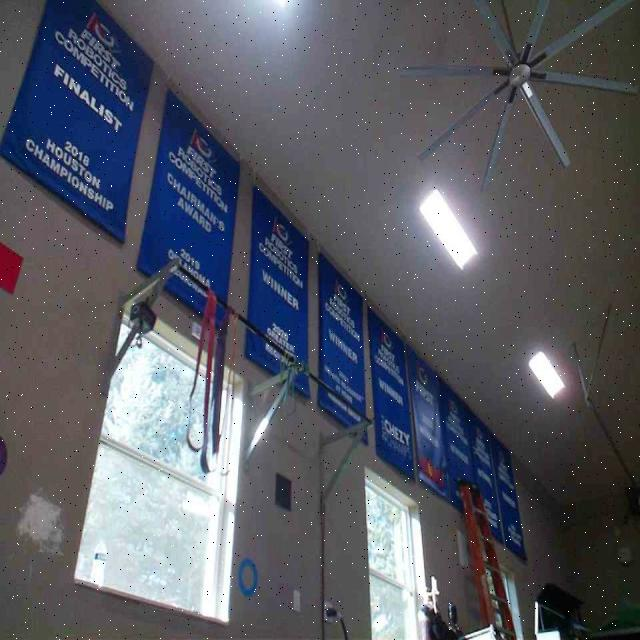ring_blue: (236, 556, 257, 596)
square_black: (274, 470, 293, 510)
square_red: (0, 241, 23, 292)
